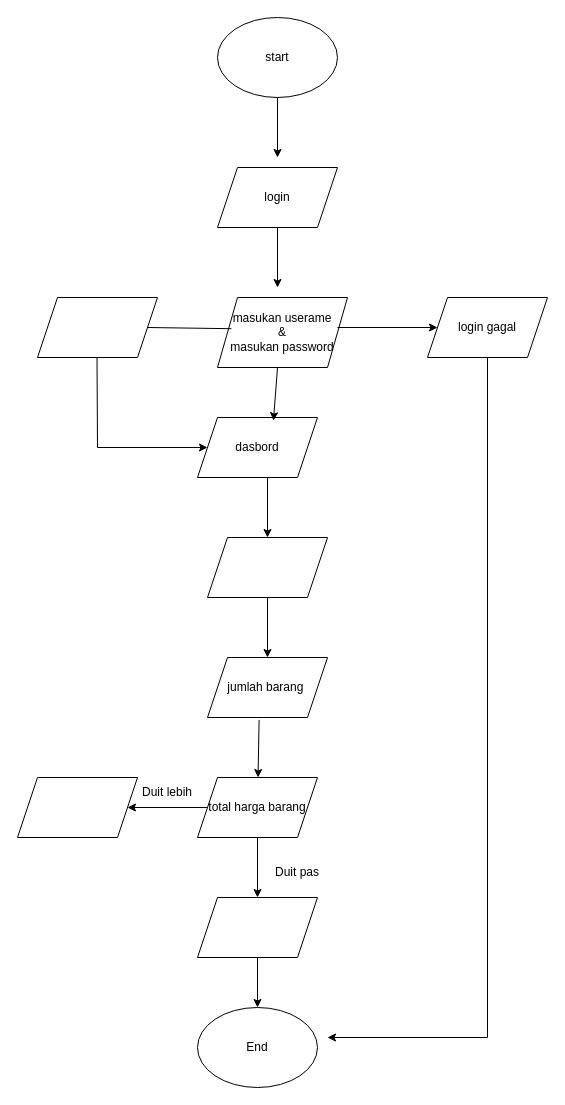
Some shapes in this 565 by 1105 pixel diagram are drawn without their labels. The shapes that lost their labels are listed below. From the top down, each one's centre as x and y in pixels, then its label:
At (97,327): "login berhasil".
At (267,567): "barang".
At (77,807): "Kembalian".
At (257,927): "struk barang".
